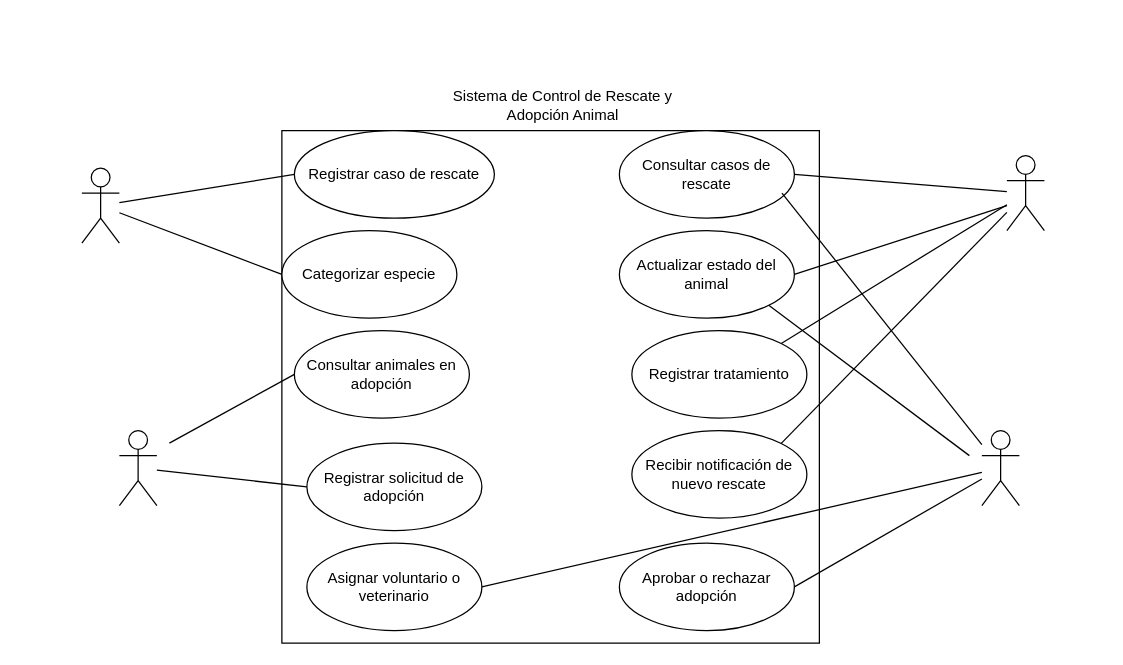
Some shapes in this 1123 by 665 pixel diagram are drawn without their labels. The centre of each missing label's shape, as x and y in pixels:
"Administrador del Refugio" goes at point 1000,467.
"Adoptante" goes at point 137,467.
"Ciudadano / Reportante" goes at point 100,205.
"Voluntario / Veterinario" goes at point 1025,192.
